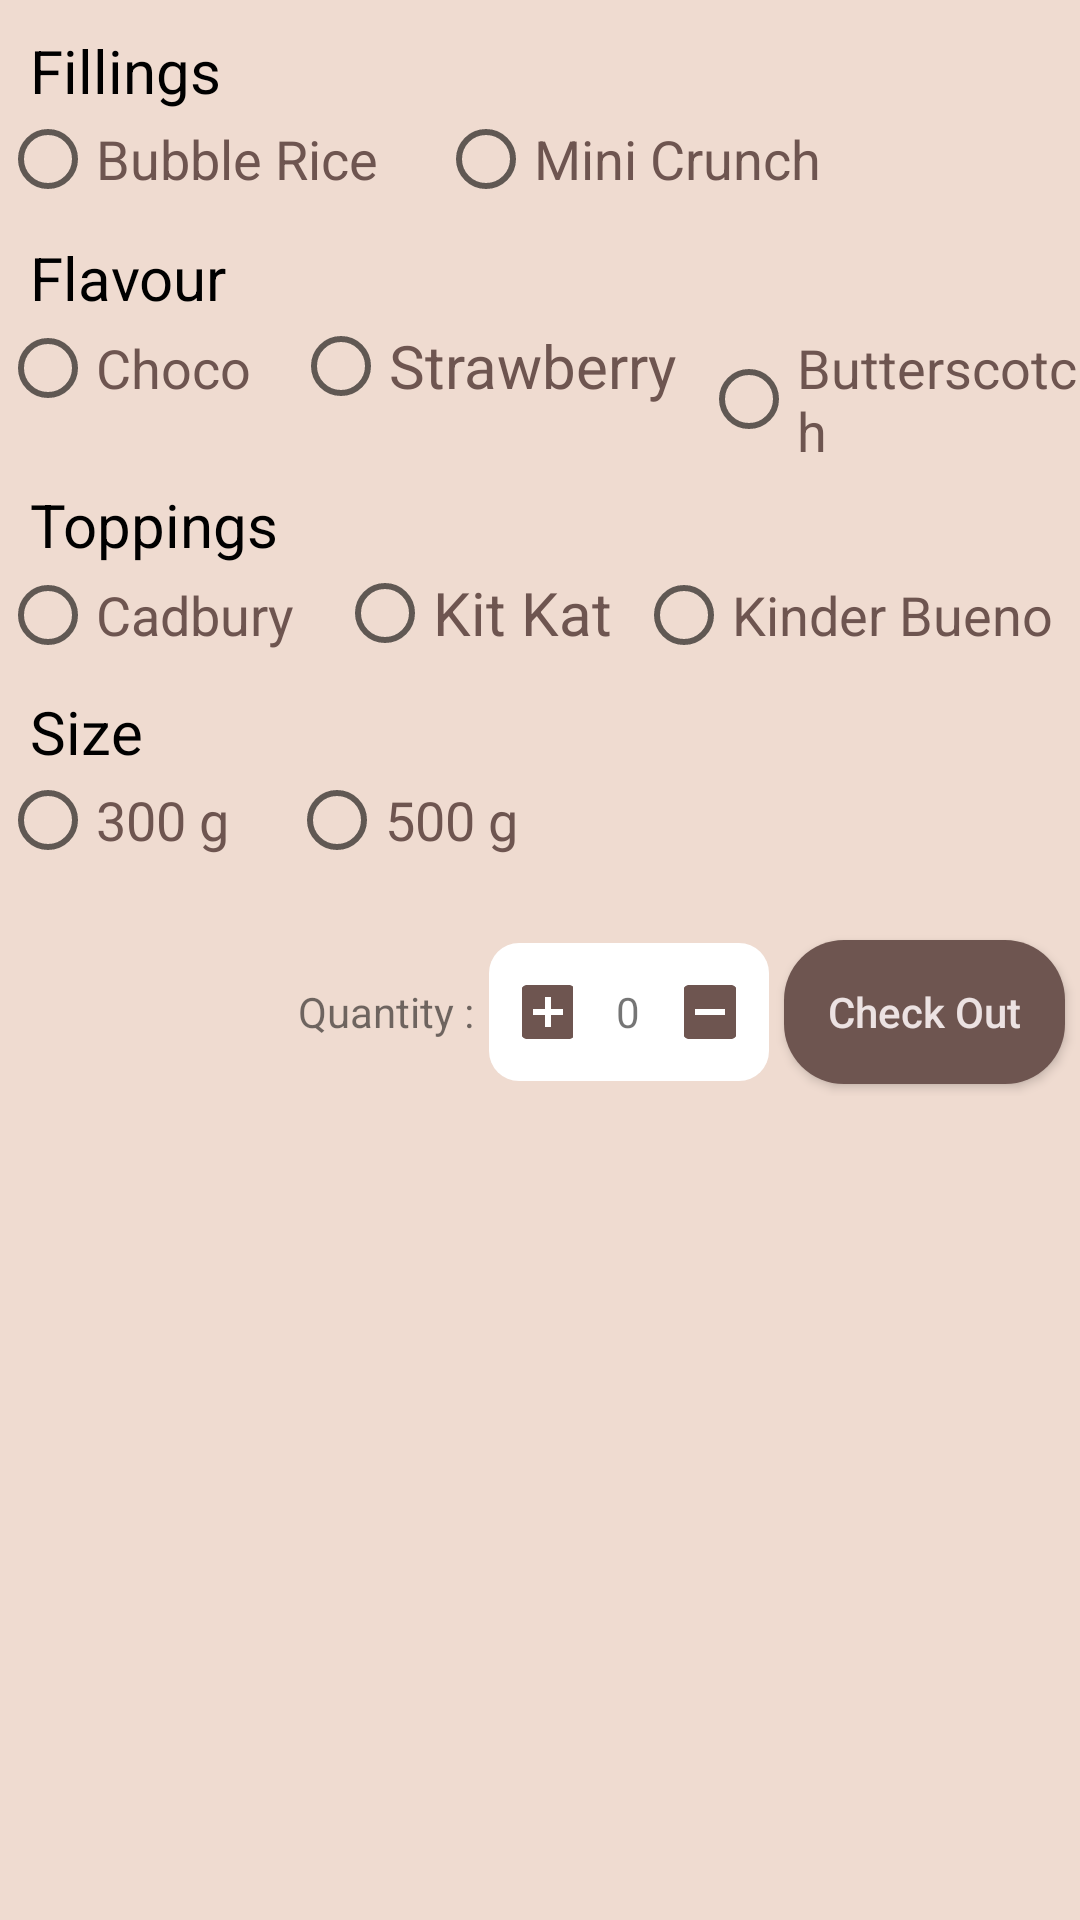

Screen size 1080w x 1920h. Icon name, then its box in pixels as (x1, y1, x2, y2):
add: (522, 985, 573, 1039)
minus: (684, 985, 736, 1039)
